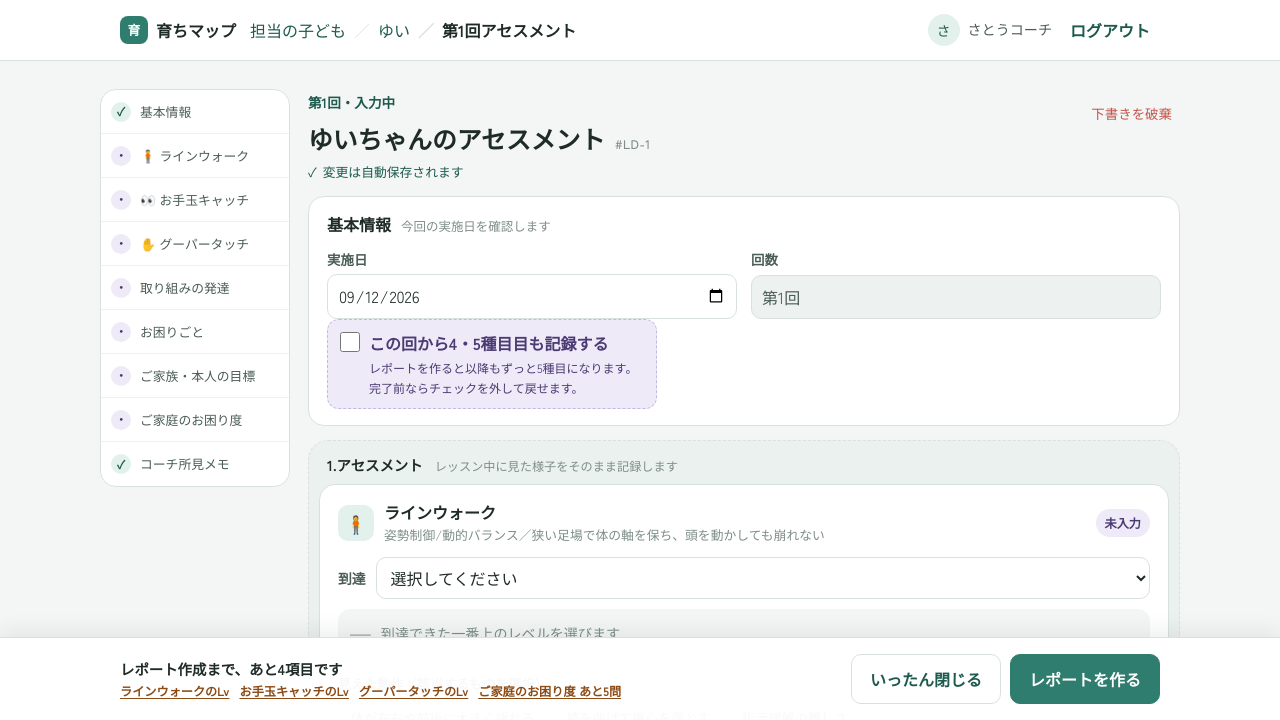
Test: アセスメント入力 › 完了前なら4・5種目目の開放を取り消し、入力済みのLvも消す
Click the checkbox labelled "この回から4・5種目目も記録する レポートを作ると以降もずっと5種目になります。完了前ならチェックを外して戻せます。" at (350, 342), box [340,332,360,352]
(page scrolled)
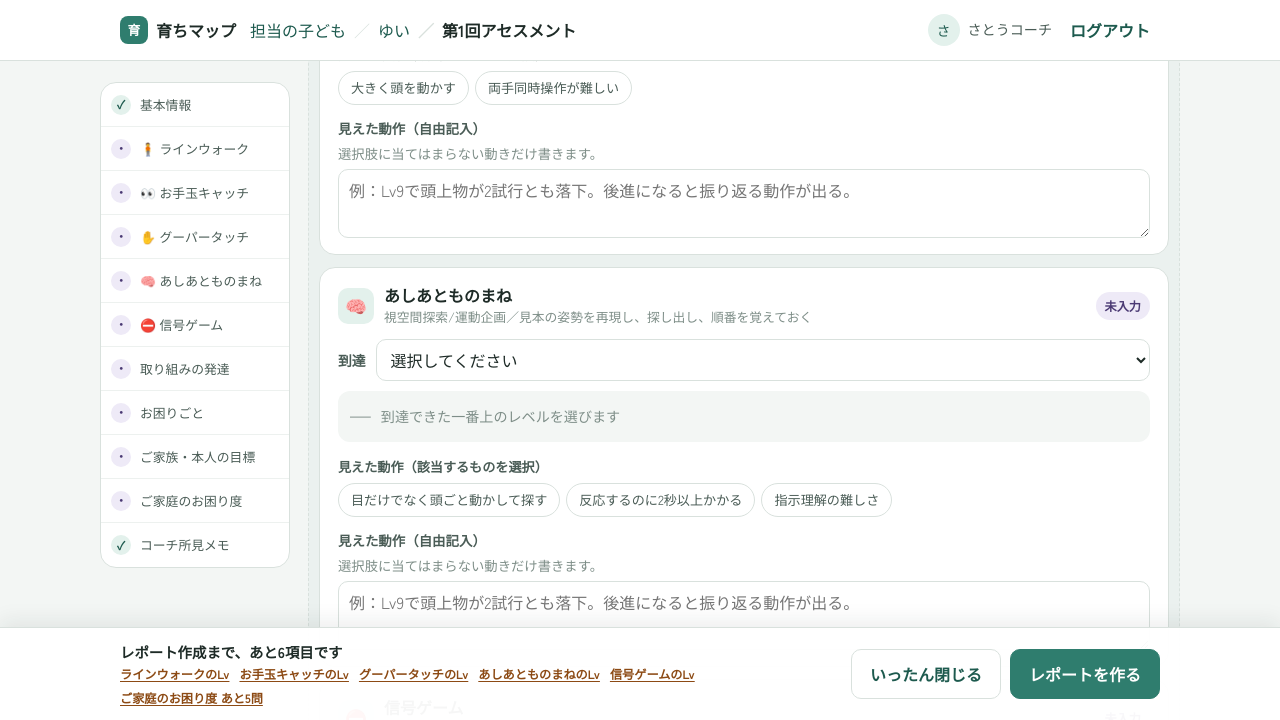
Select "Lv4 見本15個" in the dropdown labelled "到達" at (763, 360), box [376,339,1150,381]
(page scrolled)
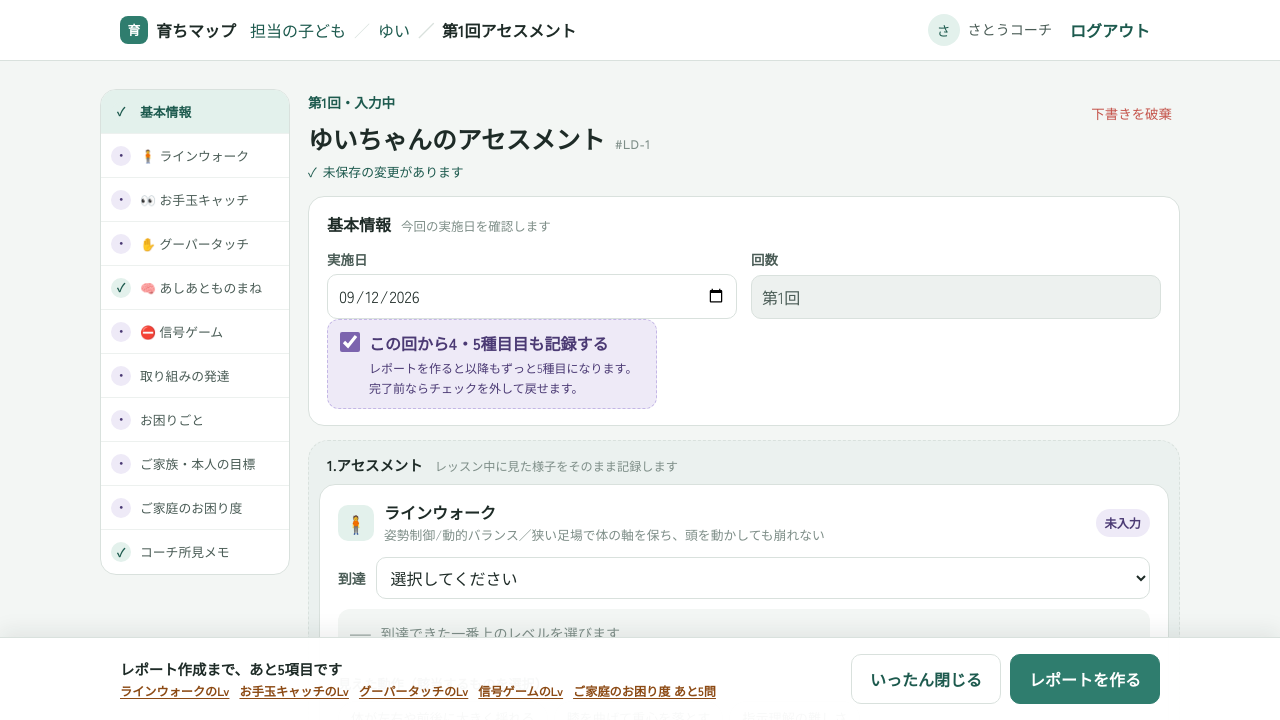
Click the checkbox labelled "この回から4・5種目目も記録する レポートを作ると以降もずっと5種目になります。完了前ならチェックを外して戻せます。" at (350, 342), box [340,332,360,352]
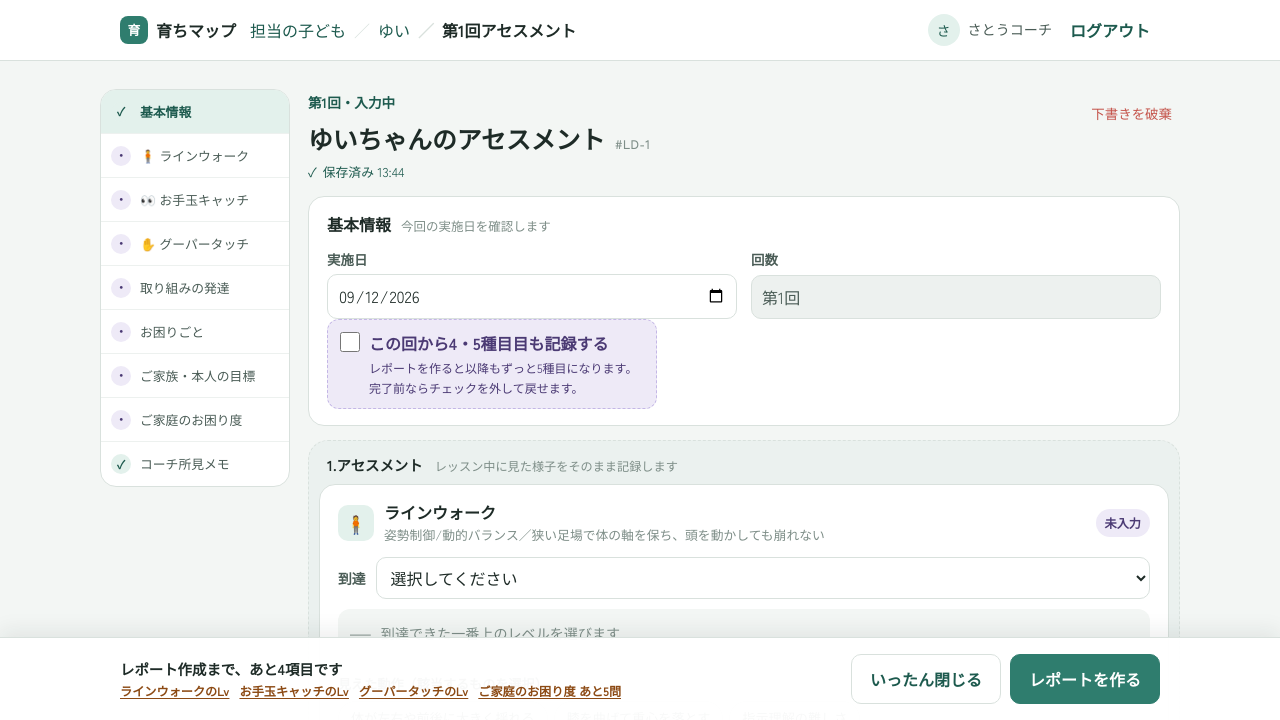
Now the link "あしあとものまね" is gone
